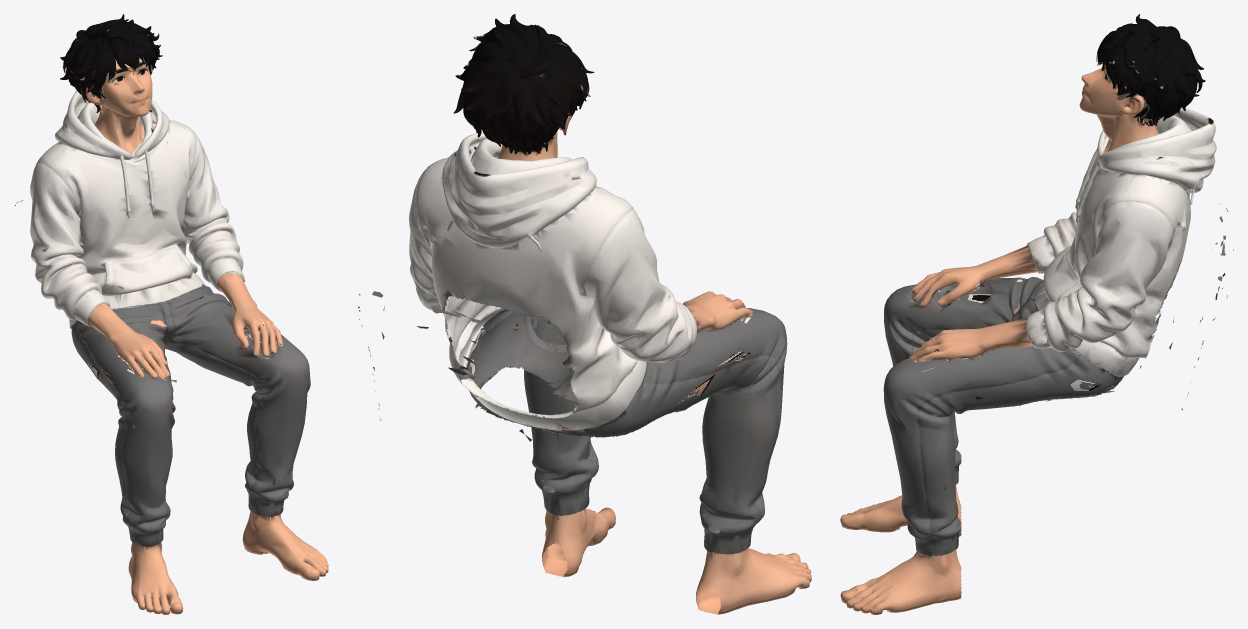
File: stargazer.glb
3 views of the same model, side by side, from view 1: azimuth 30°, elevation 25°; view 2: azimuth 150°, elevation 25°; view 3: azimuth 270°, elevation 25° (orthographic). The views are drawn at different scales.
Visible parts, largest first — view 1: Stargazing_Resident; view 2: Stargazing_Resident; view 3: Stargazing_Resident.
Part boxes in pixels (x1=…): Stargazing_Resident: x1=15, y1=14, x2=328, y2=614; Stargazing_Resident: x1=358, y1=14, x2=811, y2=614; Stargazing_Resident: x1=840, y1=14, x2=1233, y2=614.
Size of the model in its own units: 0.5358 by 1.27 by 0.8298.
Materials: 2 (1 with a texture image).
